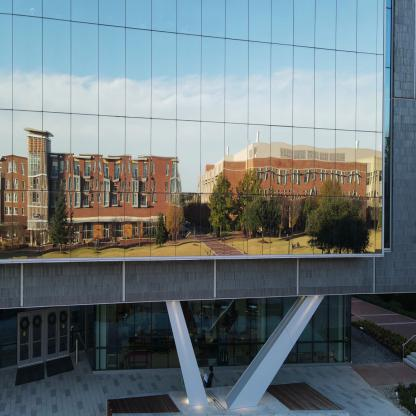Fitts- Woolard: (1, 2, 415, 404)
